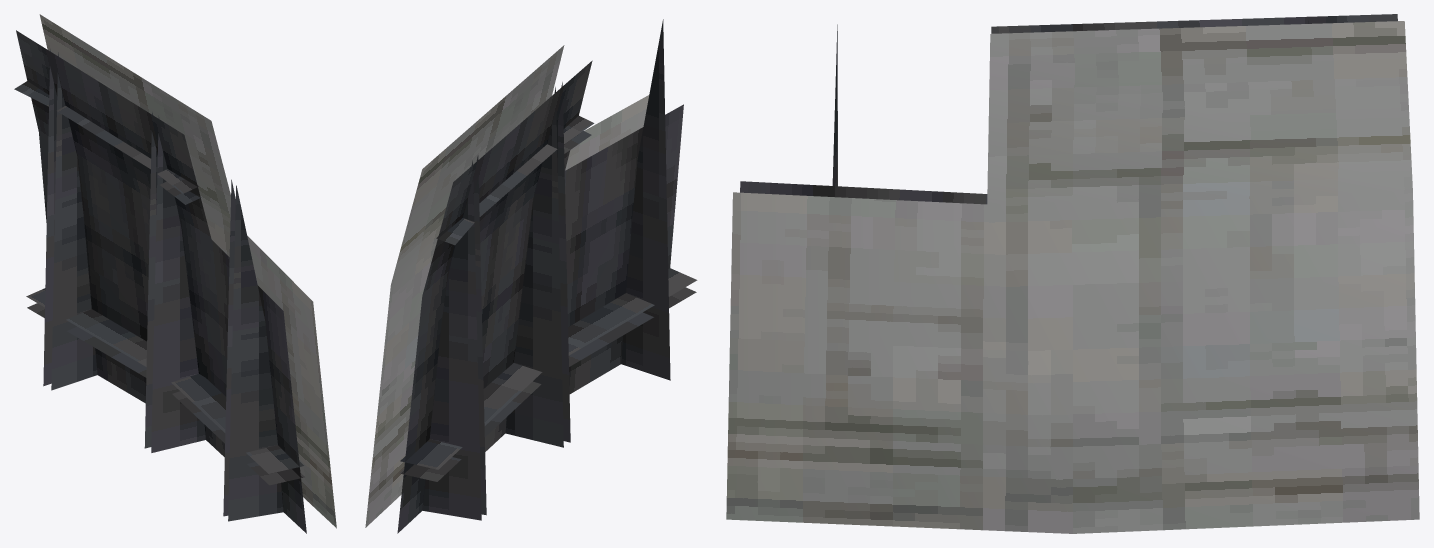
Rendered from ship_component_armor_s01_l3.fbx.
3 views of the same model, side by side, from view 1: azimuth 30°, elevation 25°; view 2: azimuth 150°, elevation 25°; view 3: azimuth 270°, elevation 25° (orthographic). The views are drawn at different scales.
Visible parts, largest first — view 1: mesh_node; view 2: mesh_node; view 3: mesh_node.
Part boxes in pixels (x1,y1,x2,y2): mesh_node: [14, 14, 336, 533]; mesh_node: [365, 19, 697, 533]; mesh_node: [726, 14, 1419, 533].
Size of the model in its own units: 0.3521 by 1.19 by 1.59.
